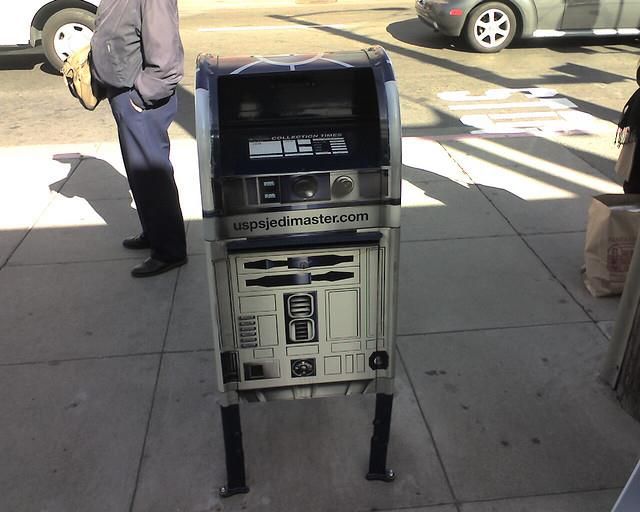R2D2_mailbox: (195, 50, 398, 409)
